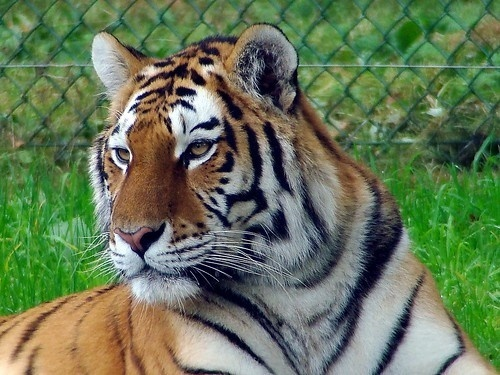tigre: (1, 23, 498, 375)
